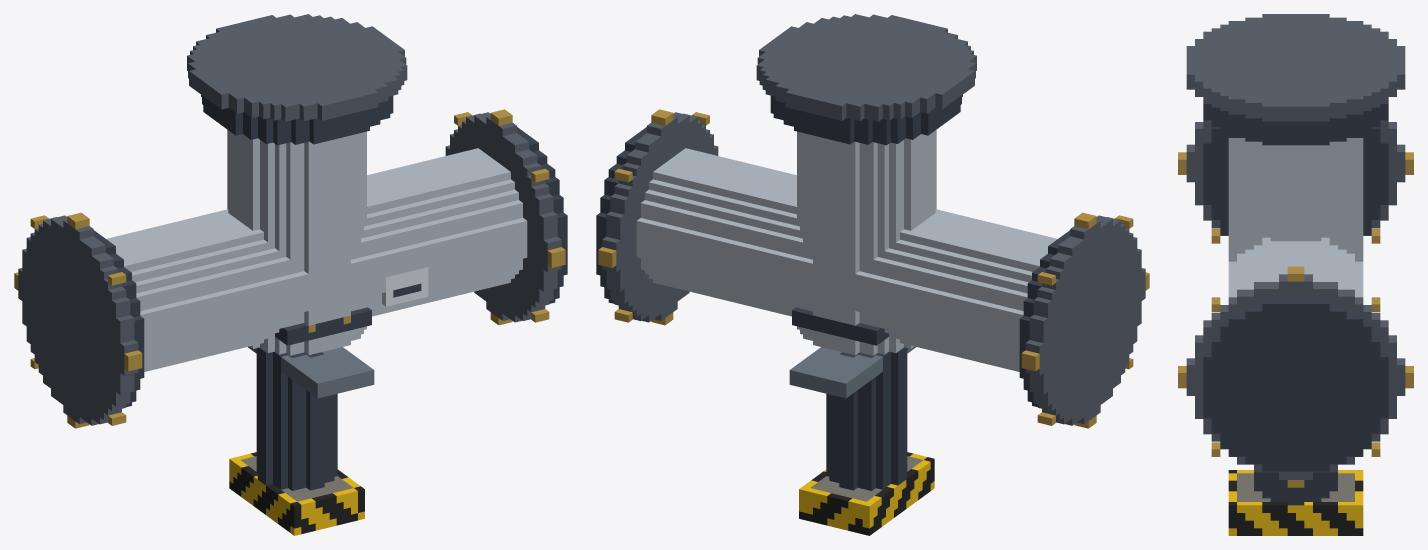
Rendered from pipe_tee.obj.
3 renders of one model, left to right at view 1: azimuth 30°, elevation 25°; view 2: azimuth 150°, elevation 25°; view 3: azimuth 270°, elevation 25°, orthographic. The views are drawn at different scales.
Visible parts, largest first — view 1: pipe_tee; view 2: pipe_tee; view 3: pipe_tee.
Boxes of the visible parts, box(x1,y1,x2,y2) form: pipe_tee: box(14, 14, 567, 535); pipe_tee: box(596, 14, 1149, 535); pipe_tee: box(1178, 14, 1413, 535).
Size of the model in its own units: 2 by 1.88 by 0.875.
